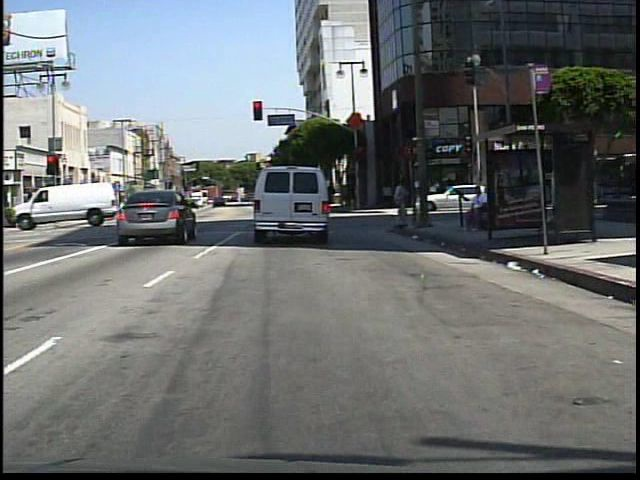person: (386, 176, 414, 234), (465, 184, 493, 236), (117, 193, 131, 218)
